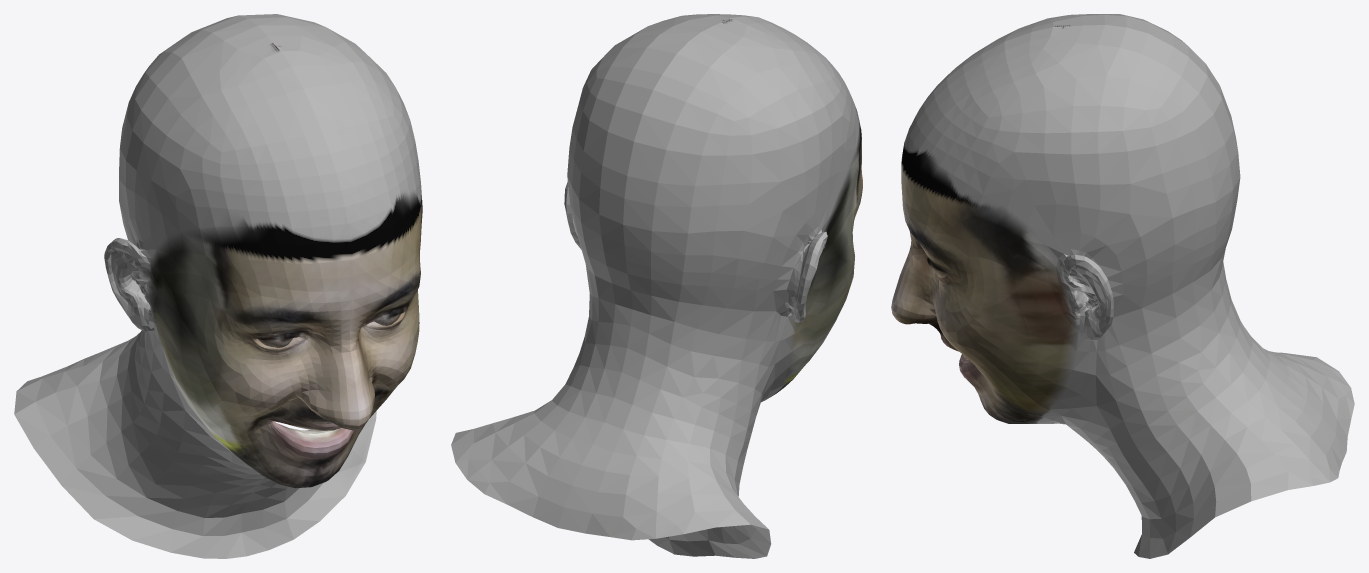
The model's file is ezgif-frame-020.obj.
3 renders of one model, left to right at view 1: azimuth 30°, elevation 25°; view 2: azimuth 150°, elevation 25°; view 3: azimuth 270°, elevation 25°, orthographic. The views are drawn at different scales.
Size of the model in its own units: 0.2092 by 0.328 by 0.2684.
Materials: 1 (1 with a texture image).
